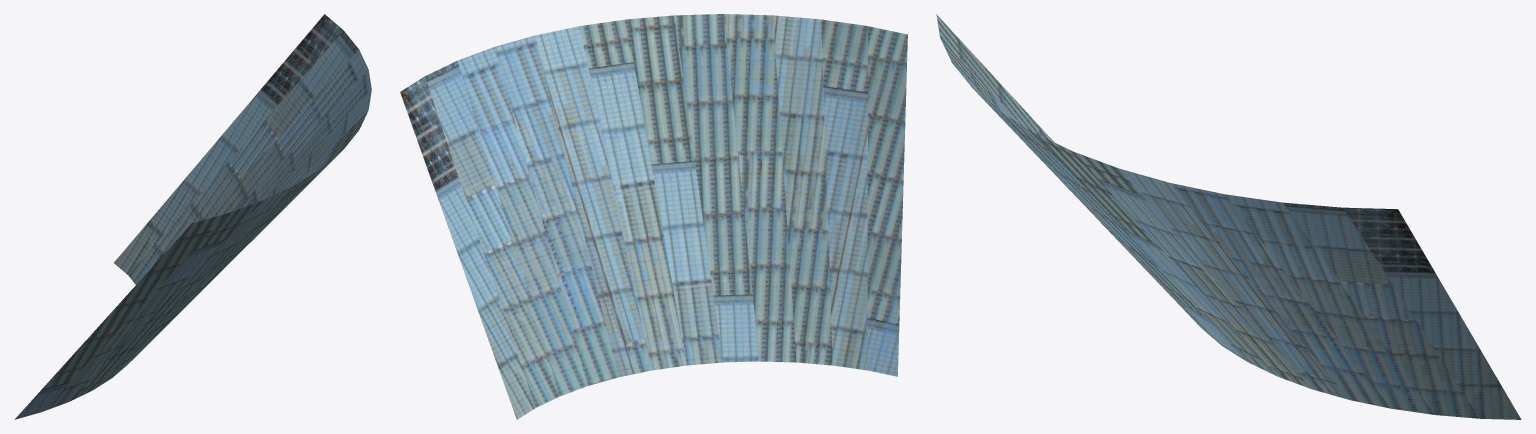
Rendered from 中国尊3.dae.
3 renders of one model, left to right at view 1: azimuth 30°, elevation 25°; view 2: azimuth 150°, elevation 25°; view 3: azimuth 270°, elevation 25°, orthographic. The views are drawn at different scales.
Visible parts, largest first — view 1: SketchUp; view 2: SketchUp; view 3: SketchUp.
Boxes of the visible parts, bbox=[...] form: SketchUp: bbox=[14, 14, 371, 419]; SketchUp: bbox=[400, 14, 907, 419]; SketchUp: bbox=[936, 14, 1521, 419].
Size of the model in its own units: 955 by 955 by 561.
Materials: 2 (1 with a texture image).
